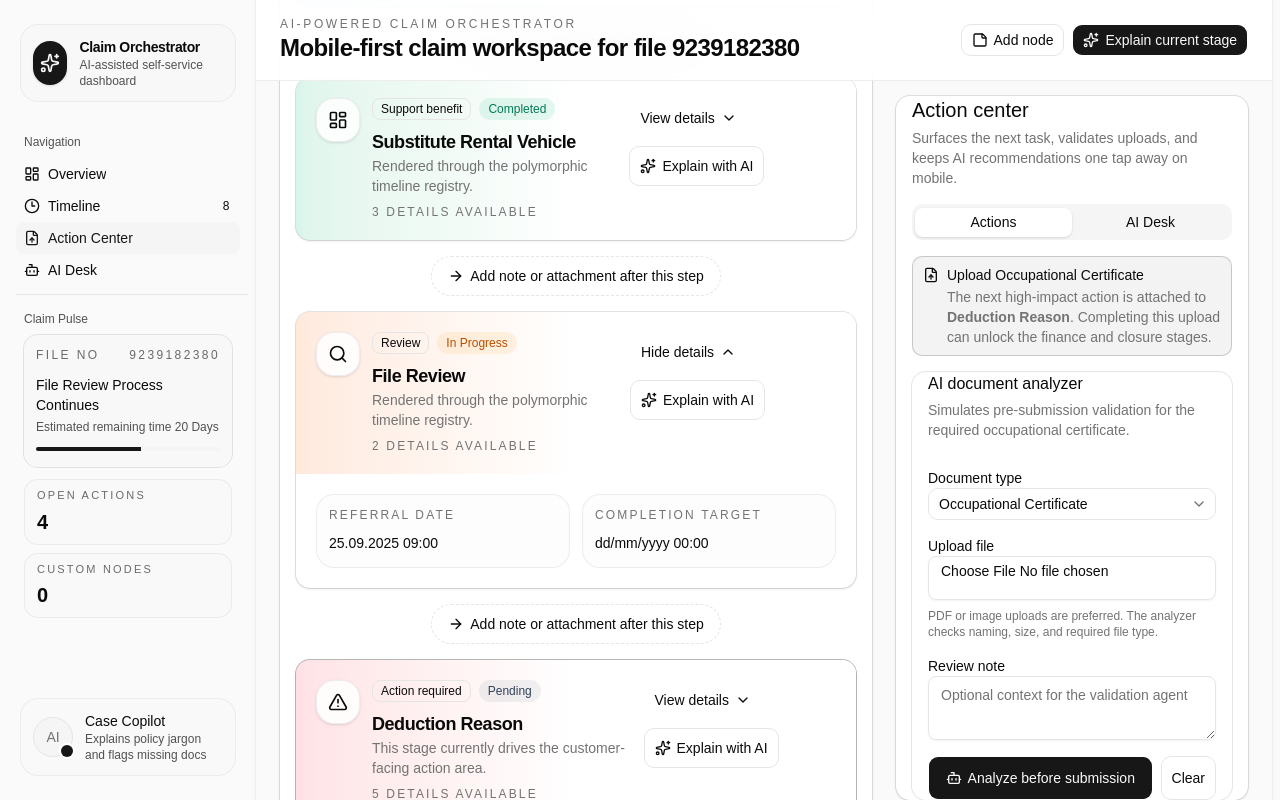
Technical Case acceptance › keeps the in-progress step expanded and opens Explain with AI for the selected stage
This screenshot has width=1280, height=800.
(page scrolled)
Expected: the element "File Review" is shown, left=296, top=312, right=856, bottom=588
Expected: the button "Hide details" is shown, left=630, top=332, right=747, bottom=372
Click the button "Explain with AI" below "In Progress" at (698,400), box left=630, top=380, right=765, bottom=420
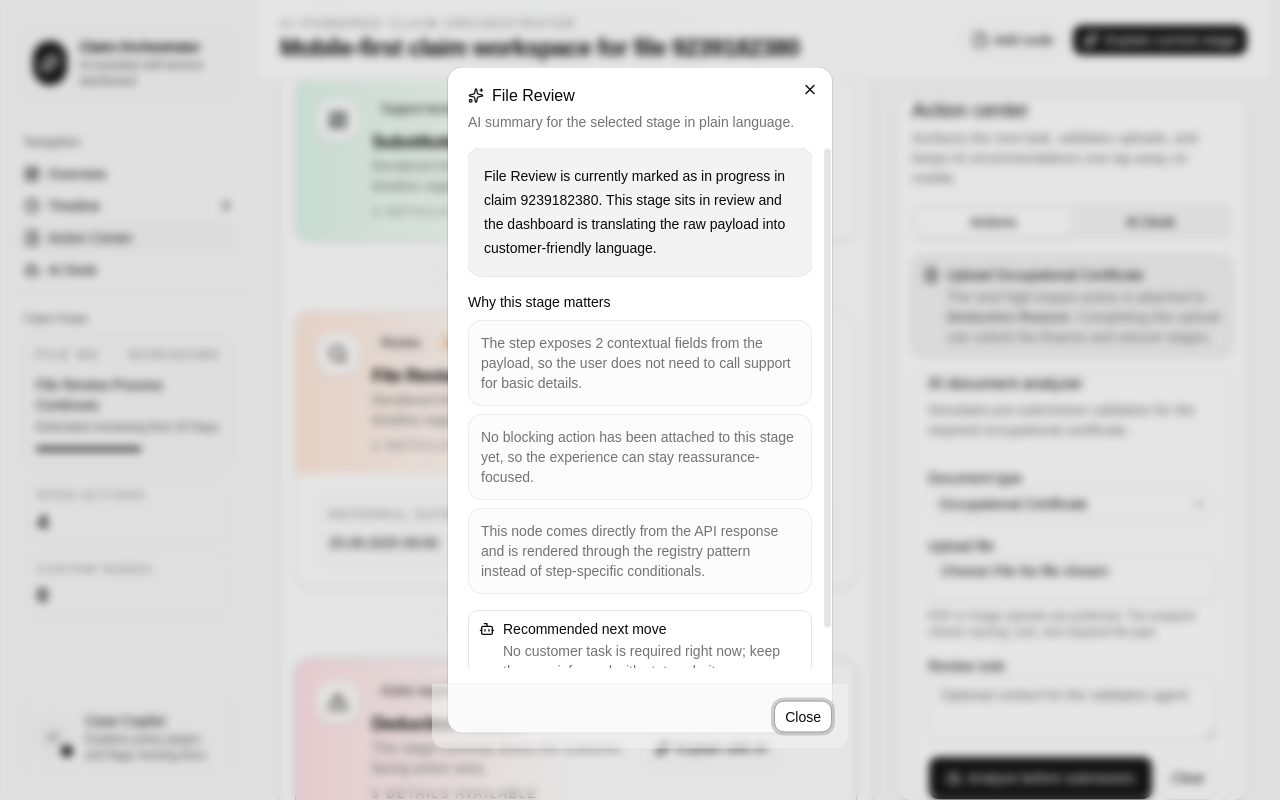
Expected: the dialog is shown, left=448, top=68, right=832, bottom=732
Expected: the text "AI summary for the selected stage in plain language." is shown, left=468, top=112, right=812, bottom=132
Expected: the text "claim 9239182380" is shown, left=484, top=168, right=785, bottom=256
